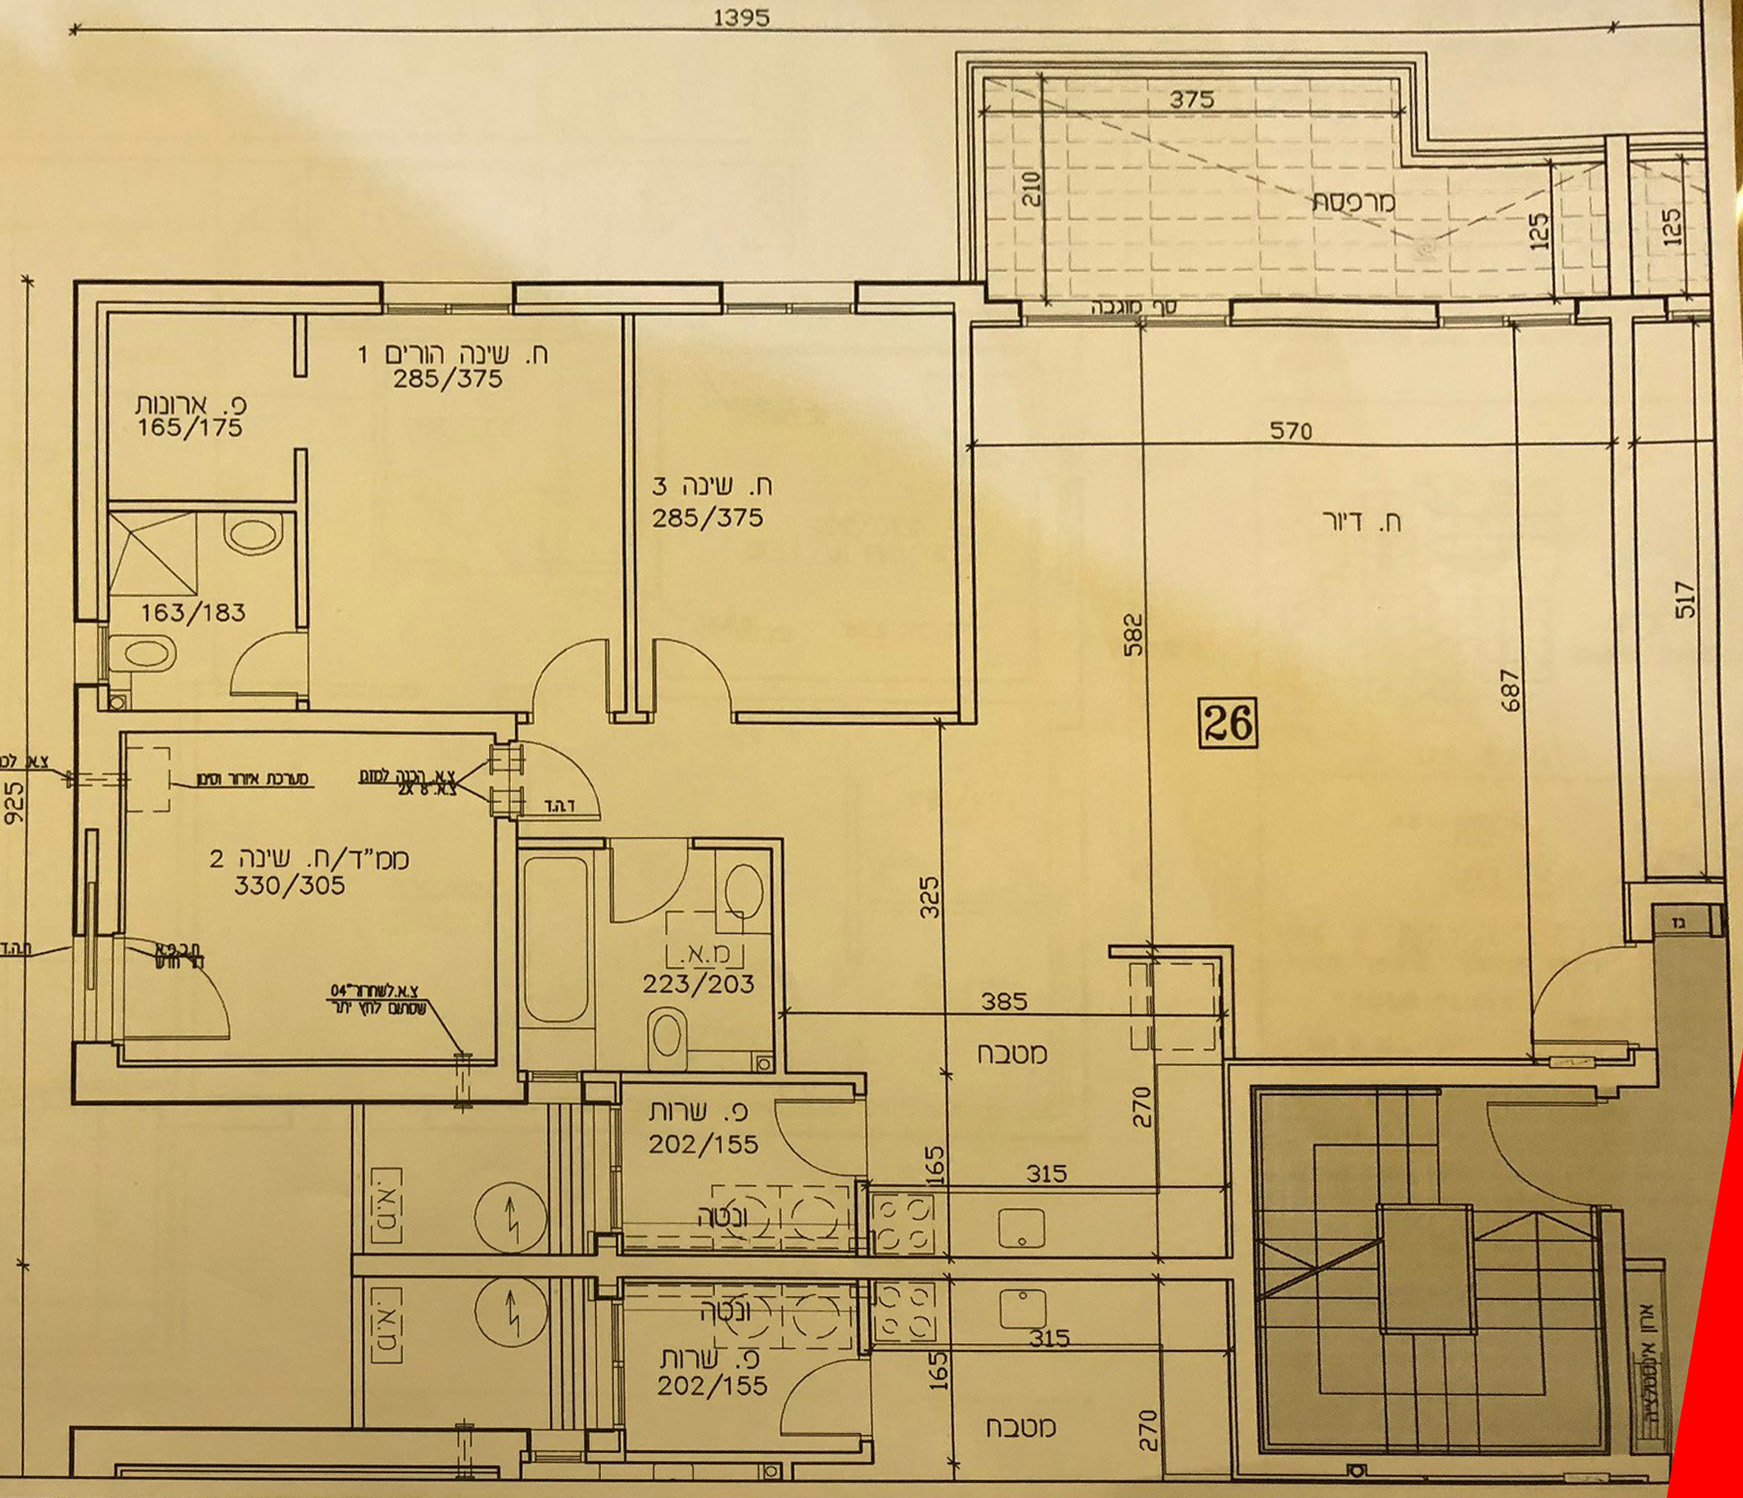door: (1504, 941, 1663, 1056), (754, 1092, 906, 1182), (648, 606, 728, 766), (519, 636, 628, 745), (772, 1351, 898, 1436), (611, 822, 683, 925)
wall: (61, 1045, 433, 1105)
window: (517, 264, 714, 324)
